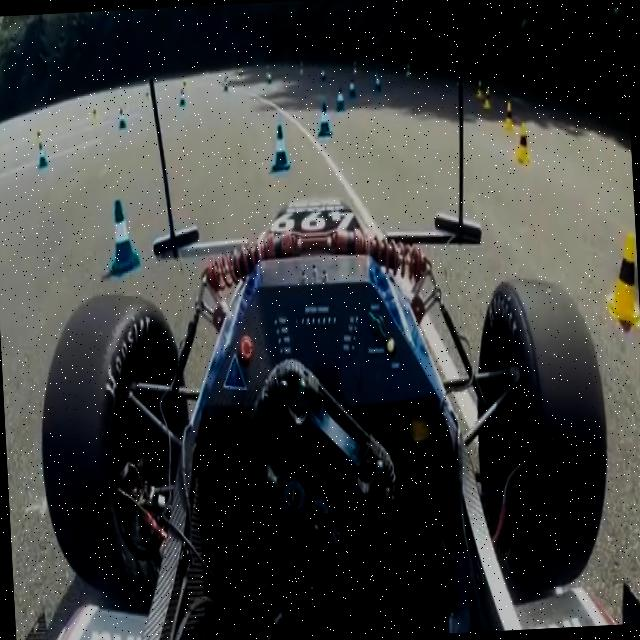blue_cone: (103, 200, 141, 276), (270, 122, 291, 174), (316, 101, 333, 138), (37, 142, 48, 170), (116, 107, 128, 132), (334, 86, 344, 114), (346, 78, 356, 102), (374, 70, 383, 94), (178, 88, 186, 106), (266, 70, 274, 86), (320, 66, 327, 82), (223, 76, 229, 92)
yellow_cone: (603, 228, 640, 326), (516, 126, 530, 164), (503, 100, 514, 130), (482, 84, 494, 110), (474, 76, 486, 100), (35, 130, 46, 154), (180, 78, 190, 102), (91, 106, 100, 127), (351, 56, 360, 76), (404, 62, 412, 82)
